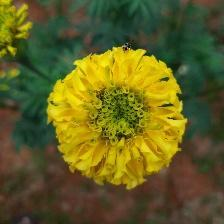marigold: (46, 46, 191, 192)
